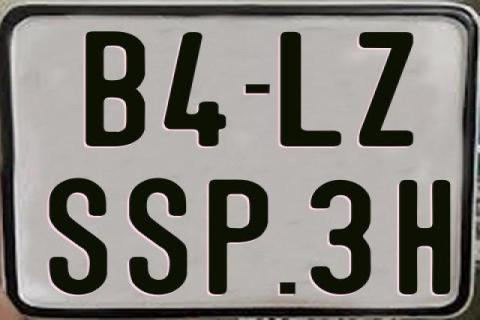0: (311, 180, 376, 298), (162, 30, 226, 148)
B: (85, 29, 148, 150)
H: (397, 180, 450, 296)
L: (278, 32, 343, 149)
P: (206, 180, 271, 296)
S: (46, 177, 105, 297), (129, 177, 189, 295)
Z: (359, 32, 418, 150)
